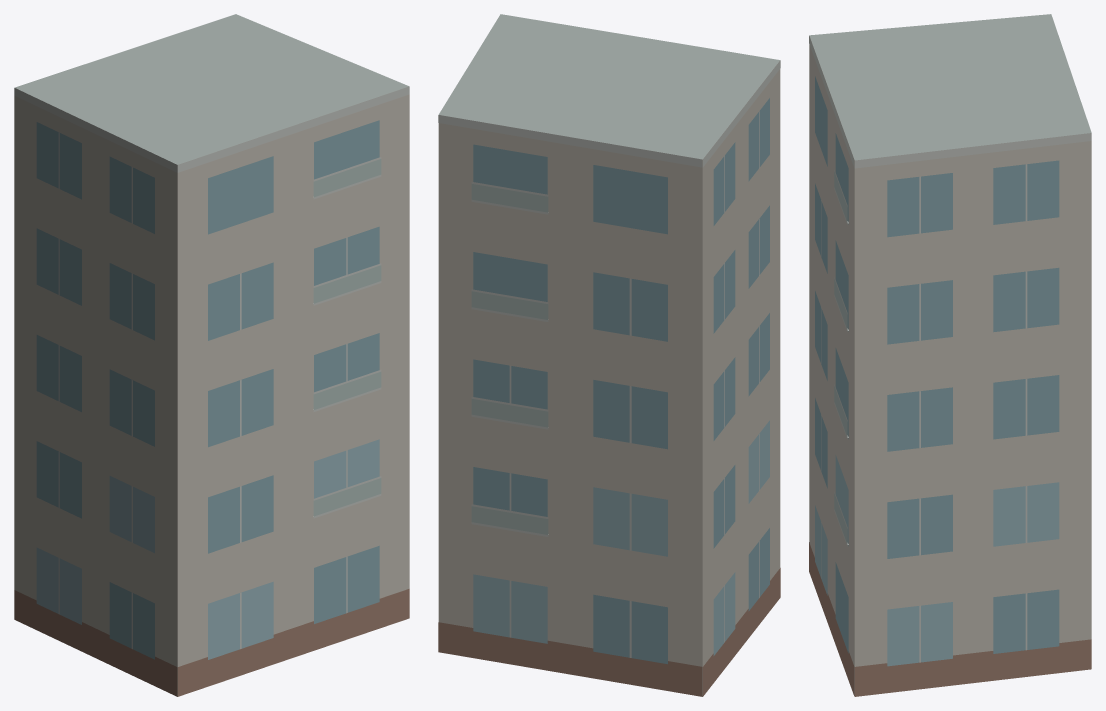
File: survey-upis-32838060.glb
3 renders of one model, left to right at view 1: azimuth 30°, elevation 25°; view 2: azimuth 150°, elevation 25°; view 3: azimuth 270°, elevation 25°, orthographic.
Visible parts, largest first — view 1: survey-upis-32838060.tmp; view 2: survey-upis-32838060.tmp; view 3: survey-upis-32838060.tmp.
Boxes of the visible parts, <box> form: survey-upis-32838060.tmp: <box>14,14,409,696</box>; survey-upis-32838060.tmp: <box>438,14,780,696</box>; survey-upis-32838060.tmp: <box>809,14,1091,696</box>.
Size of the model in its own units: 9.5 by 16.2 by 7.74.
